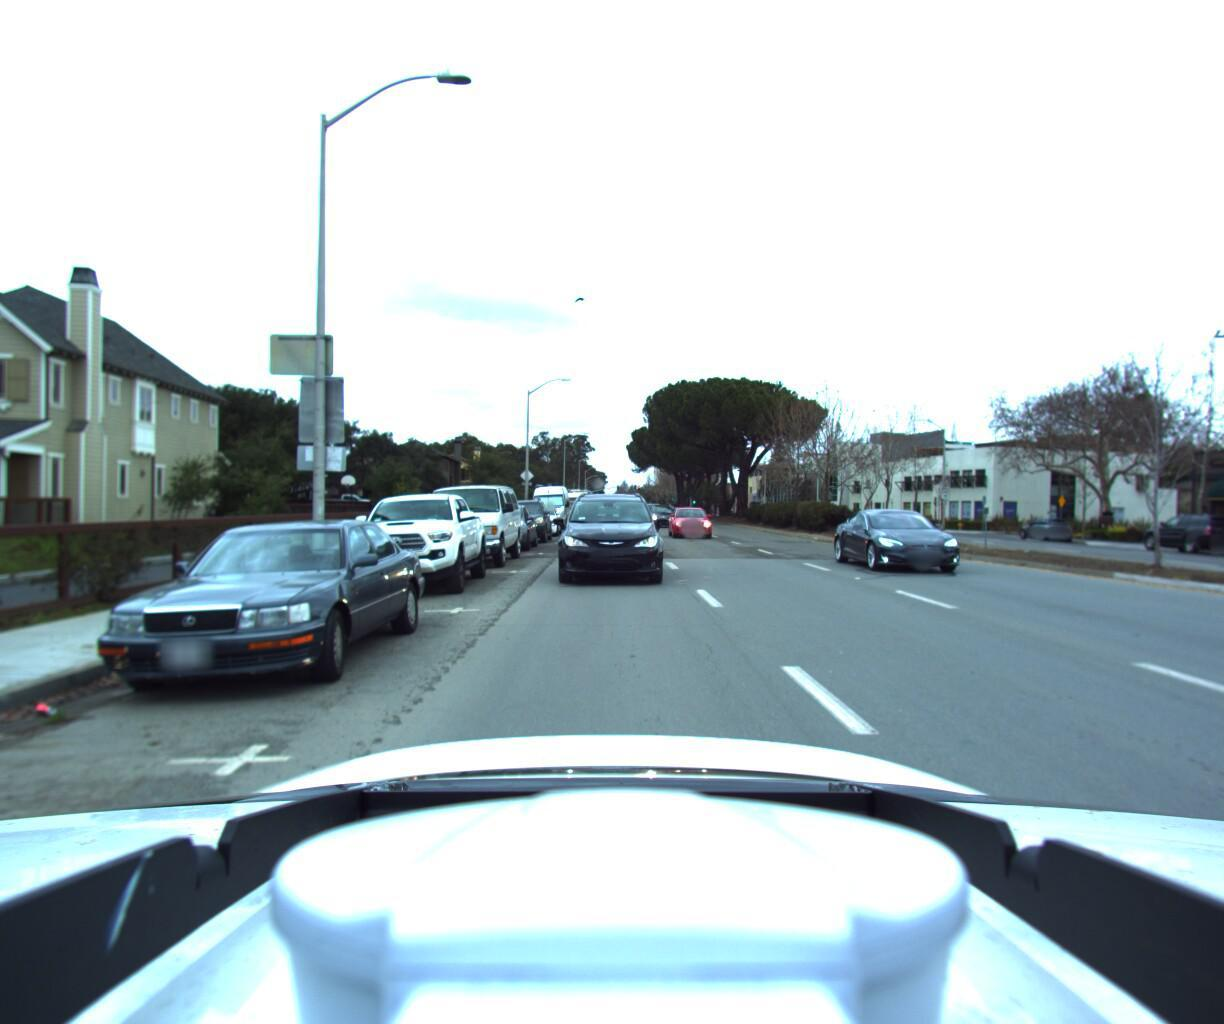car: (64, 516, 433, 711), (334, 489, 491, 605), (844, 504, 997, 577), (555, 488, 664, 587), (412, 482, 522, 567), (1135, 513, 1224, 557), (470, 504, 535, 551), (493, 497, 552, 545), (526, 484, 571, 530), (668, 503, 718, 539), (1015, 516, 1077, 543), (516, 506, 559, 537), (647, 499, 678, 523)
other_vehicle: (556, 488, 590, 522)
